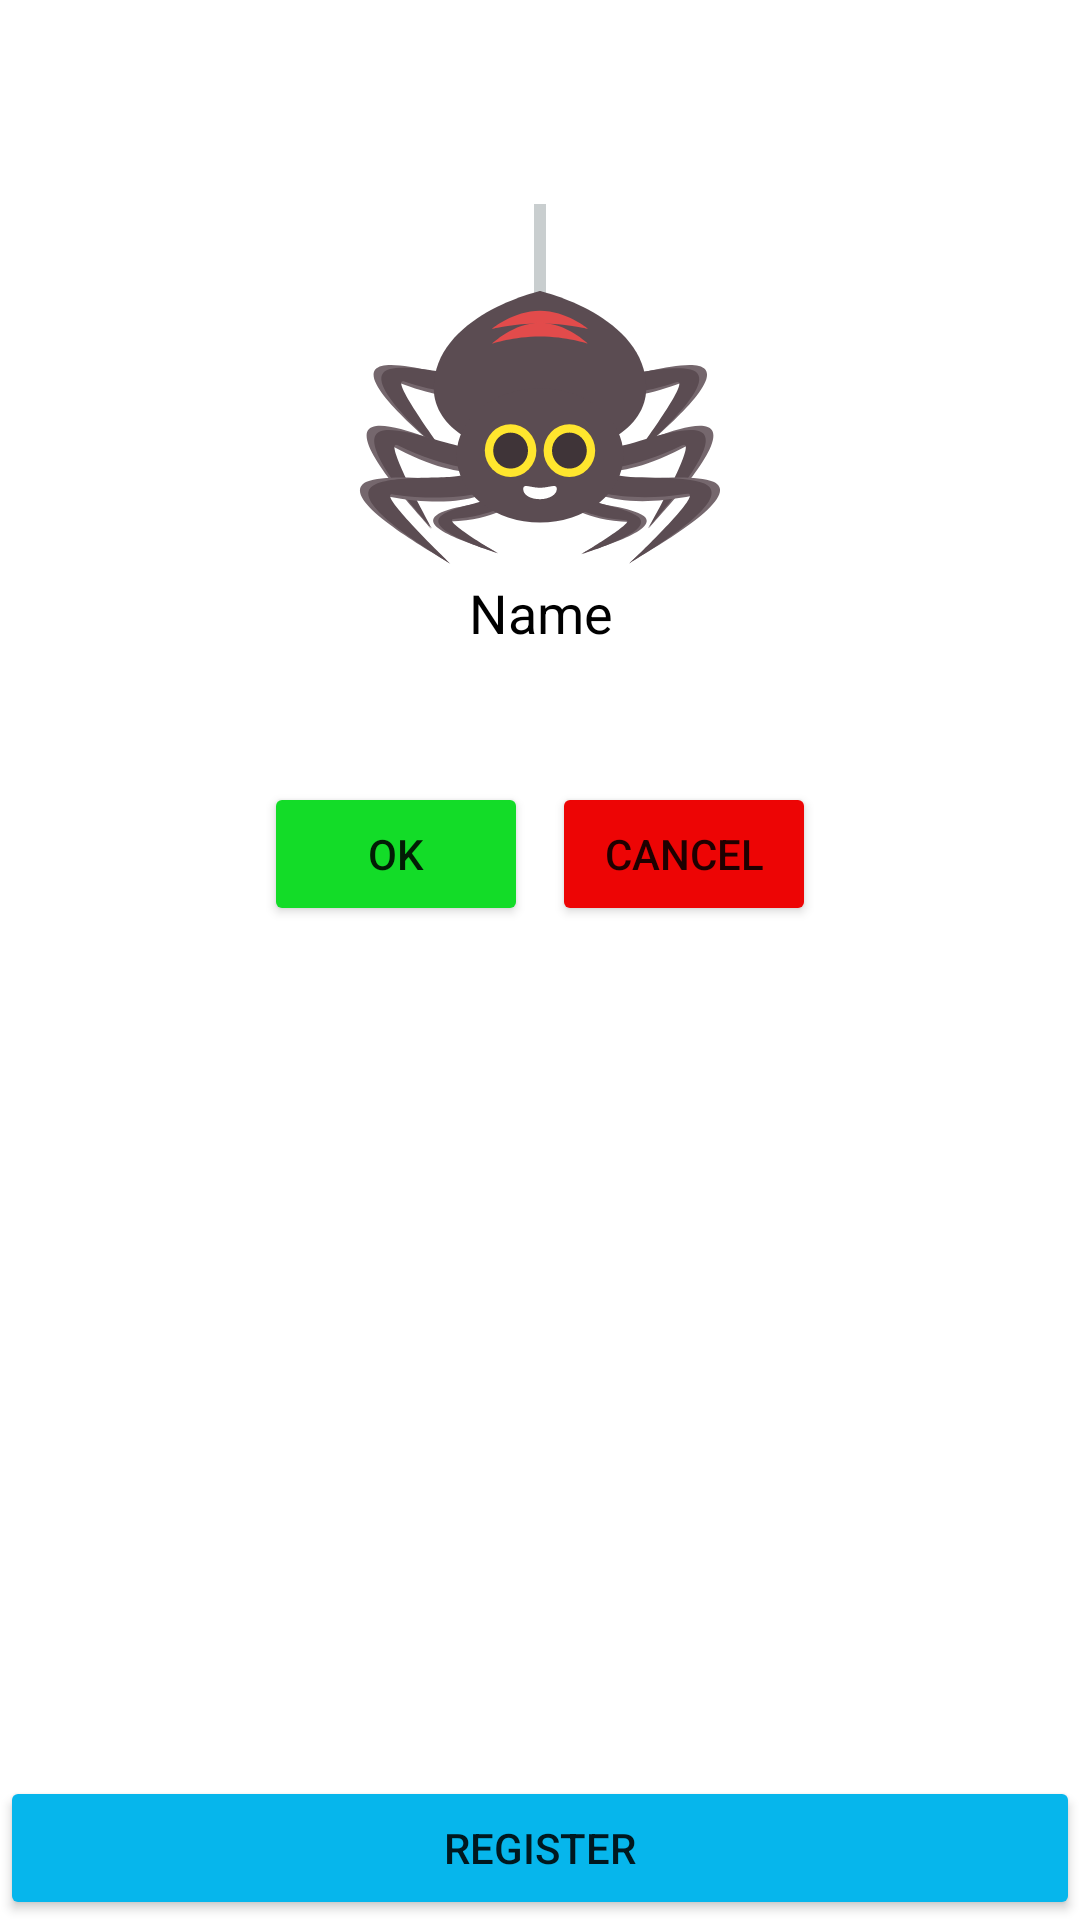

Icon click points for this 1080 × 1920 phone screenshot, format (x,y):
spider: (540,384)
